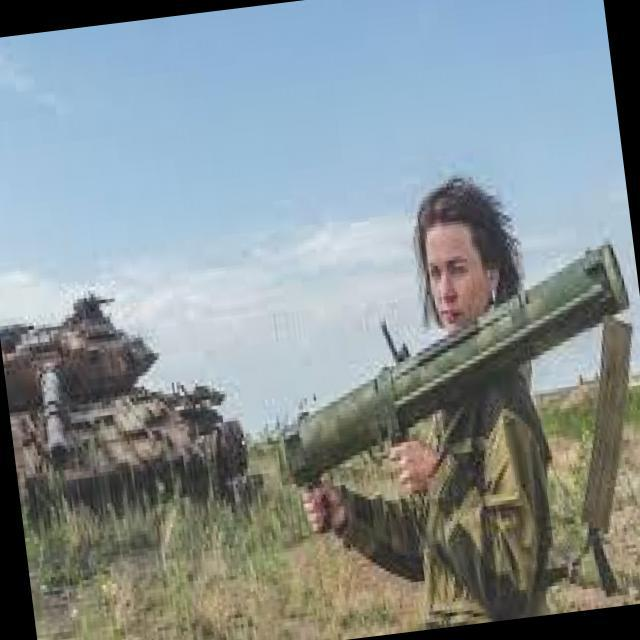rocket: (259, 235, 640, 491)
